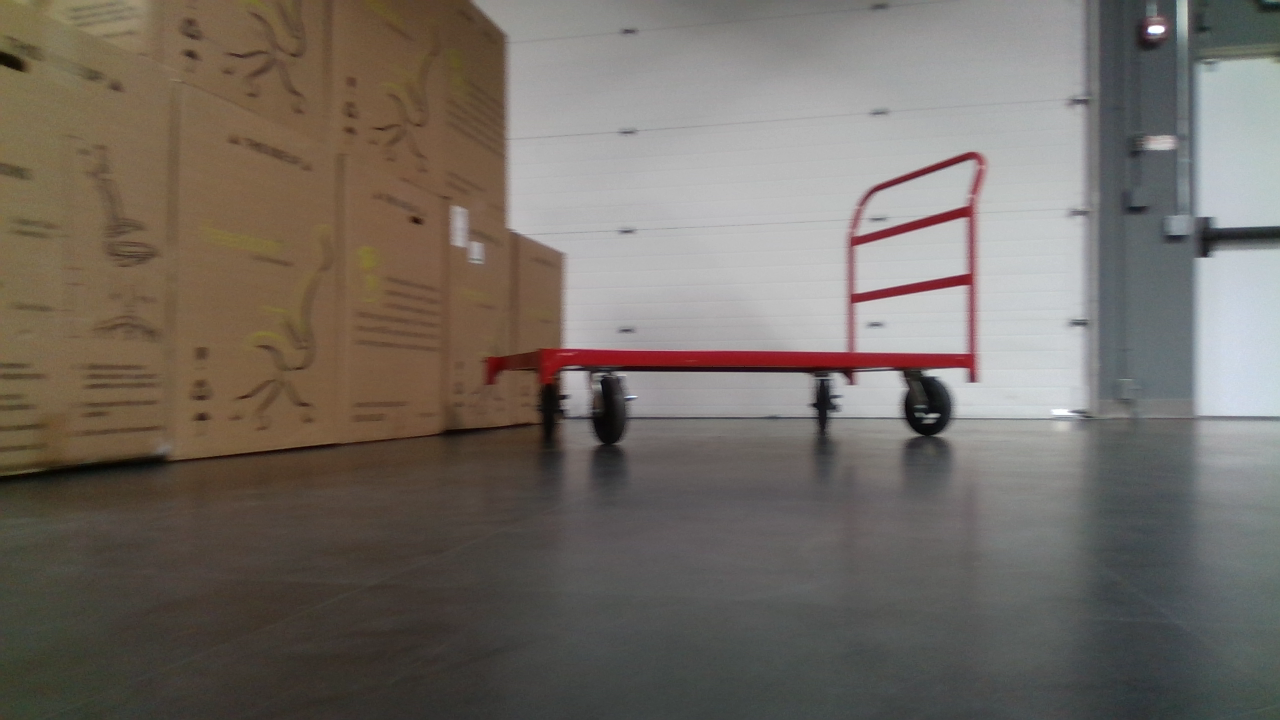Dolly: (486, 151, 986, 447)
Wheel: (901, 375, 952, 435), (590, 376, 632, 446), (808, 383, 838, 433), (537, 383, 561, 437)
